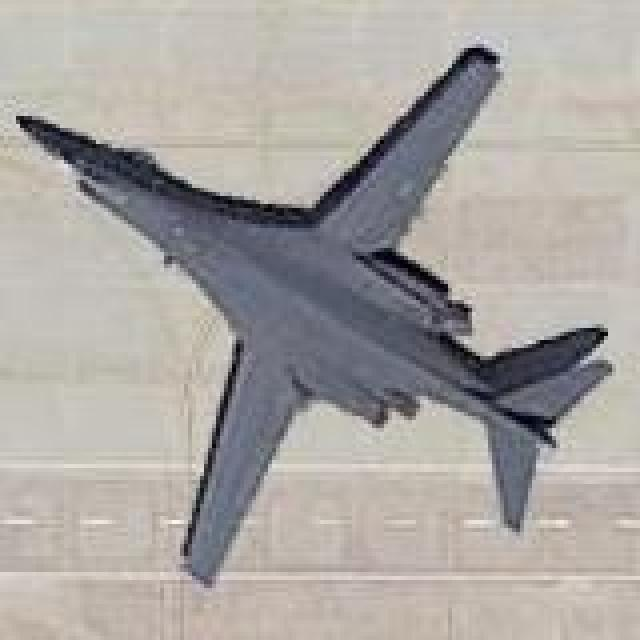B-1_TopDown: (12, 36, 616, 588)
